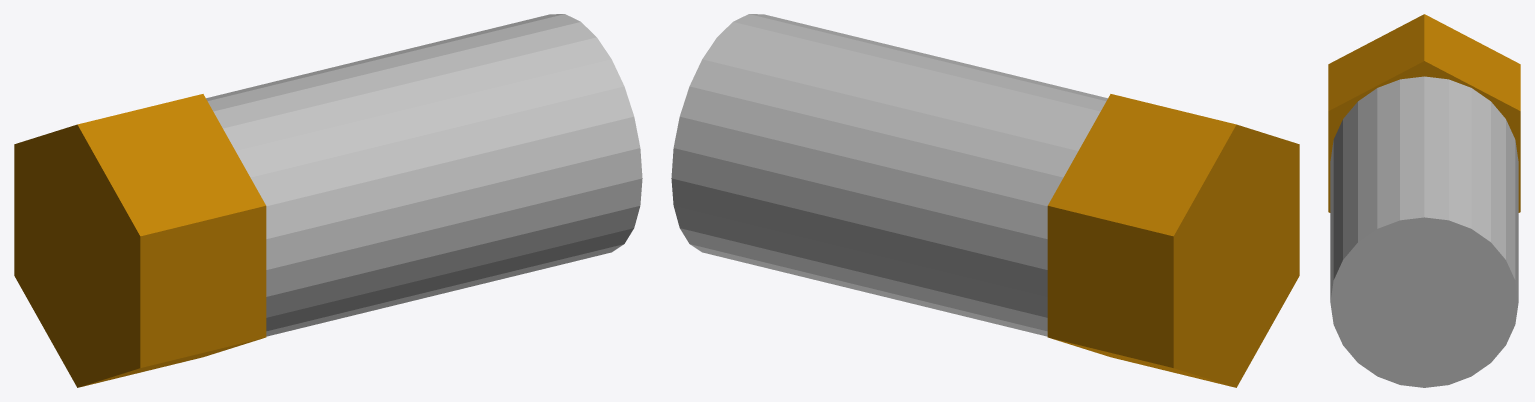
The model's file is RST.obj.
The picture shows the model from 3 angles, left to right: view 1: azimuth 30°, elevation 25°; view 2: azimuth 150°, elevation 25°; view 3: azimuth 270°, elevation 25°; orthographic projection. The views are drawn at different scales.
Visible parts, largest first — view 1: Cylinder1_SILVER_KAPTON, Cylinder1_GOLD_KAPTON; view 2: Cylinder1_SILVER_KAPTON, Cylinder1_GOLD_KAPTON; view 3: Cylinder1_SILVER_KAPTON, Cylinder1_GOLD_KAPTON.
Boxes of the visible parts, bbox=[...] form: Cylinder1_SILVER_KAPTON: bbox=[206, 14, 642, 336]; Cylinder1_GOLD_KAPTON: bbox=[14, 94, 266, 387]; Cylinder1_SILVER_KAPTON: bbox=[671, 14, 1107, 336]; Cylinder1_GOLD_KAPTON: bbox=[1047, 94, 1299, 387]; Cylinder1_SILVER_KAPTON: bbox=[1330, 76, 1518, 387]; Cylinder1_GOLD_KAPTON: bbox=[1328, 14, 1520, 212].
Bounding box in the file's own units: 8 × 4 × 3.46.
